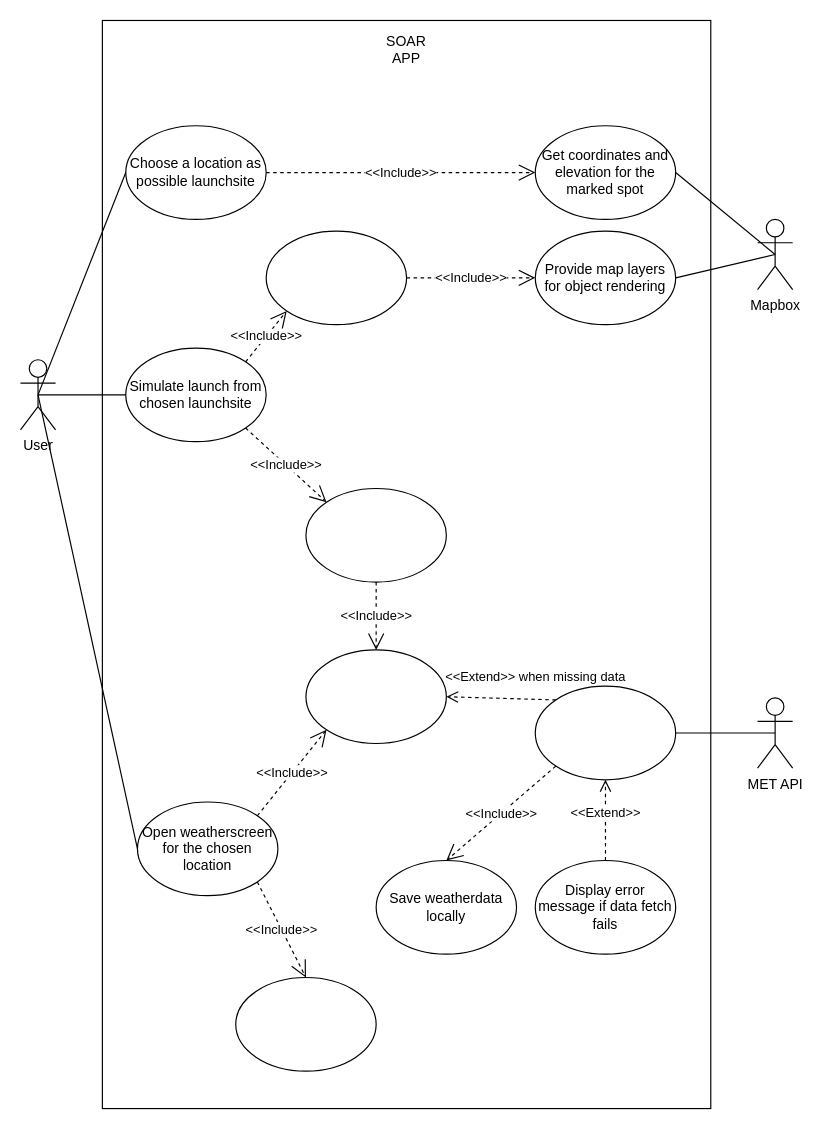
Image size: 823x1129. Some labels were removed from this diagram. Each missing label, with the centre of its shape:
Calculate trajectory: [375,534]
Check cache and database for data: [375,696]
Display Weather data cards for location: [305,1023]
Provide weatherdata for the location: [605,732]
Render trajectory in map: [336,277]
